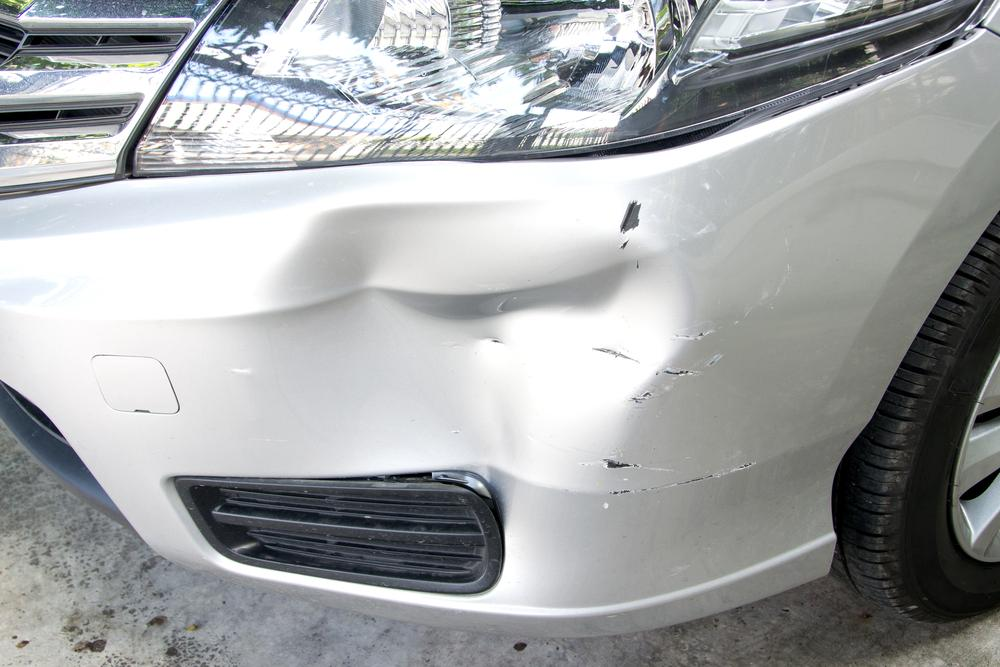dent: (263, 200, 687, 478)
scratch: (580, 325, 763, 499), (616, 199, 644, 231)
